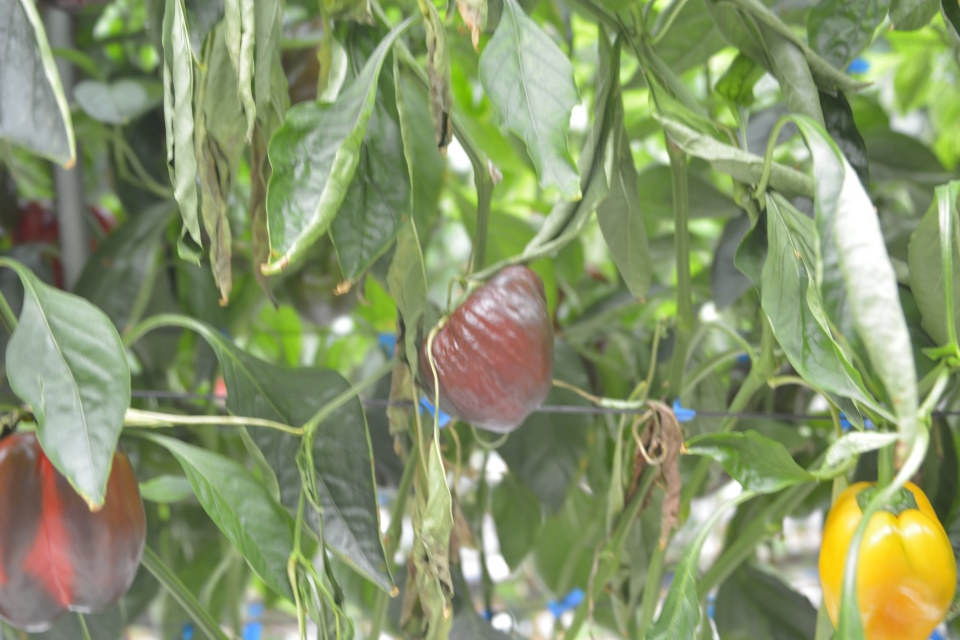fruit: (0, 426, 150, 636), (416, 261, 559, 434), (815, 474, 959, 640), (8, 196, 122, 292)
pedicle: (856, 480, 919, 513)
